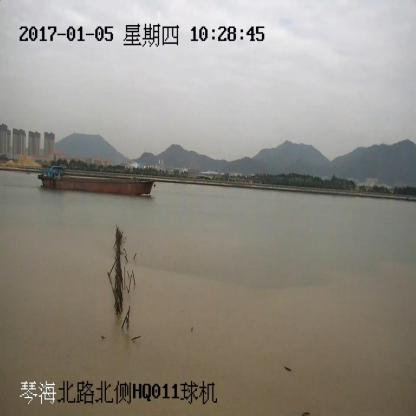Bulk Carrier: (36, 166, 155, 196)
